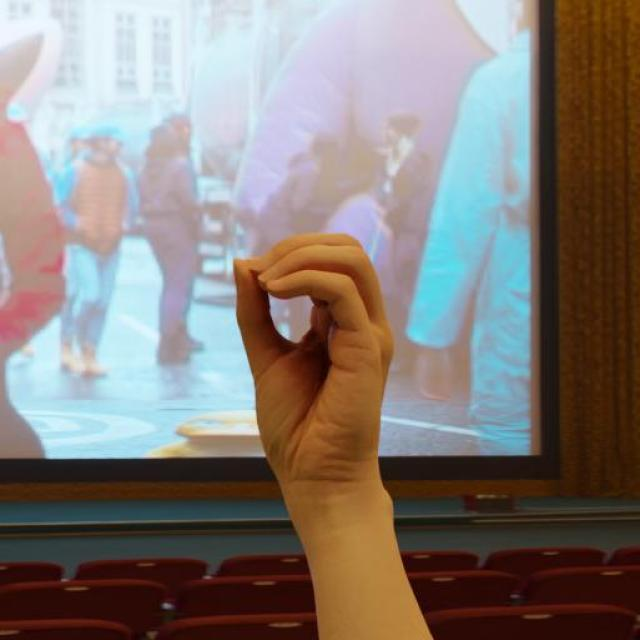O: (208, 193, 441, 527)
